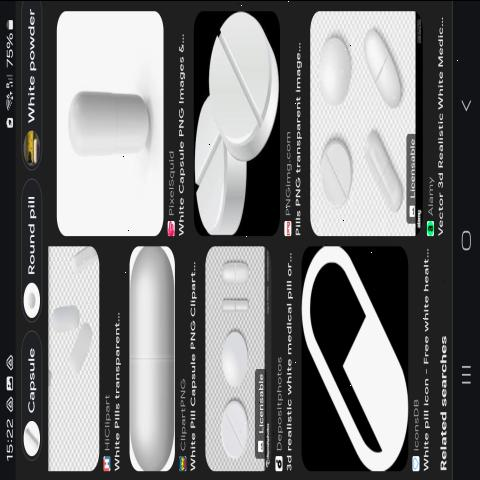Pill: (60, 54, 159, 178), (130, 237, 180, 471), (204, 8, 278, 162), (193, 100, 247, 237), (356, 10, 406, 116), (364, 114, 407, 218), (311, 17, 358, 111), (320, 128, 360, 212), (212, 392, 255, 458), (213, 328, 255, 388), (49, 271, 83, 342), (64, 313, 96, 380), (221, 250, 255, 284), (218, 292, 260, 316)
